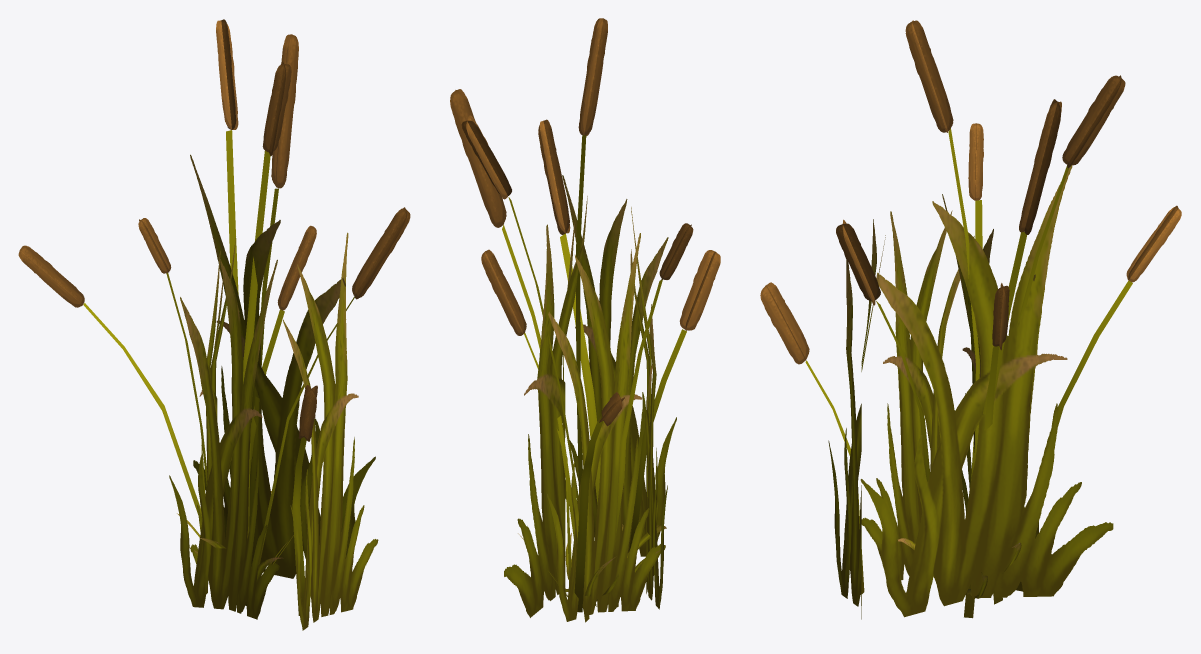
The model's file is reedA.fbx.
3 views of the same model, side by side, from view 1: azimuth 30°, elevation 25°; view 2: azimuth 150°, elevation 25°; view 3: azimuth 270°, elevation 25° (orthographic). The views are drawn at different scales.
Parts seen in each view (by area): view 1: reedA; view 2: reedA; view 3: reedA.
Boxes of the visible parts, box(x1,y1,x2,y2) form: reedA: box(18, 19, 410, 630); reedA: box(450, 18, 720, 622); reedA: box(760, 20, 1181, 619).
Bounding box in the file's own units: 135 × 300 × 192.
Materials: 1 (1 with a texture image).
